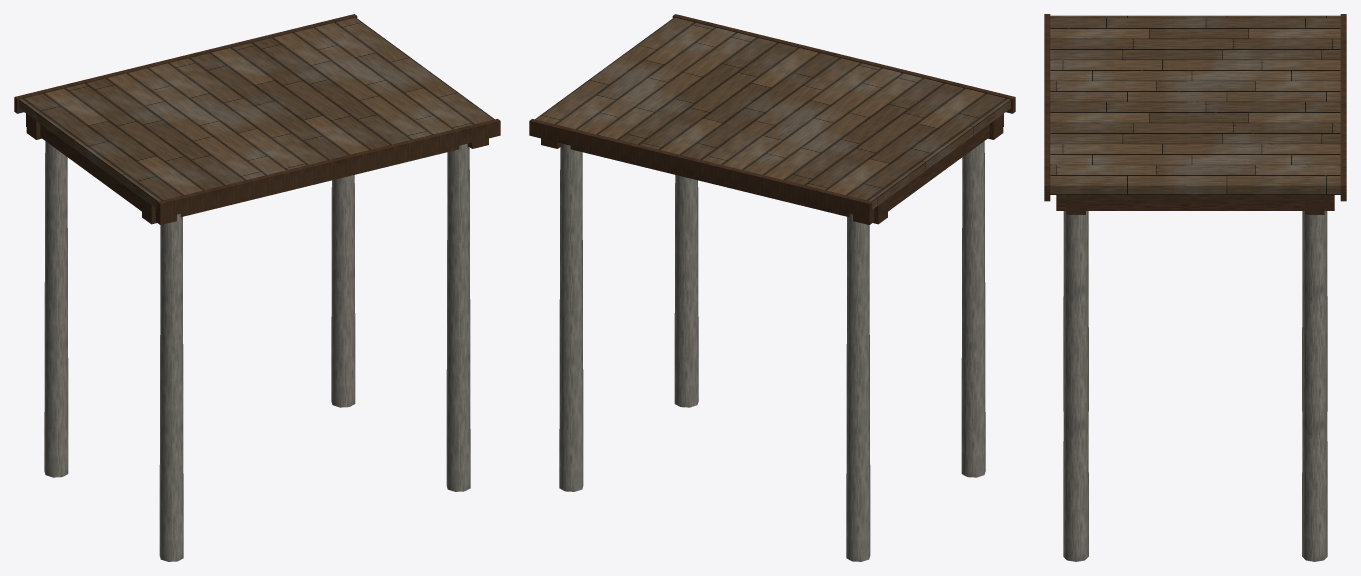
File: SM_Art_Pier_405x300x100_P425.gltf
The picture shows the model from 3 angles, left to right: view 1: azimuth 30°, elevation 25°; view 2: azimuth 150°, elevation 25°; view 3: azimuth 270°, elevation 25°; orthographic projection. The views are drawn at different scales.
Visible parts, largest first — view 1: SM_Art_Pier_405x300x100_P425; view 2: SM_Art_Pier_405x300x100_P425; view 3: SM_Art_Pier_405x300x100_P425.
Part boxes in pixels (x1,y1,x2,y2): SM_Art_Pier_405x300x100_P425: [14, 14, 500, 561]; SM_Art_Pier_405x300x100_P425: [529, 14, 1015, 561]; SM_Art_Pier_405x300x100_P425: [1044, 14, 1346, 561].
Size of the model in its own units: 4.09 by 4.26 by 3.04.
3 materials, 3 textured.
